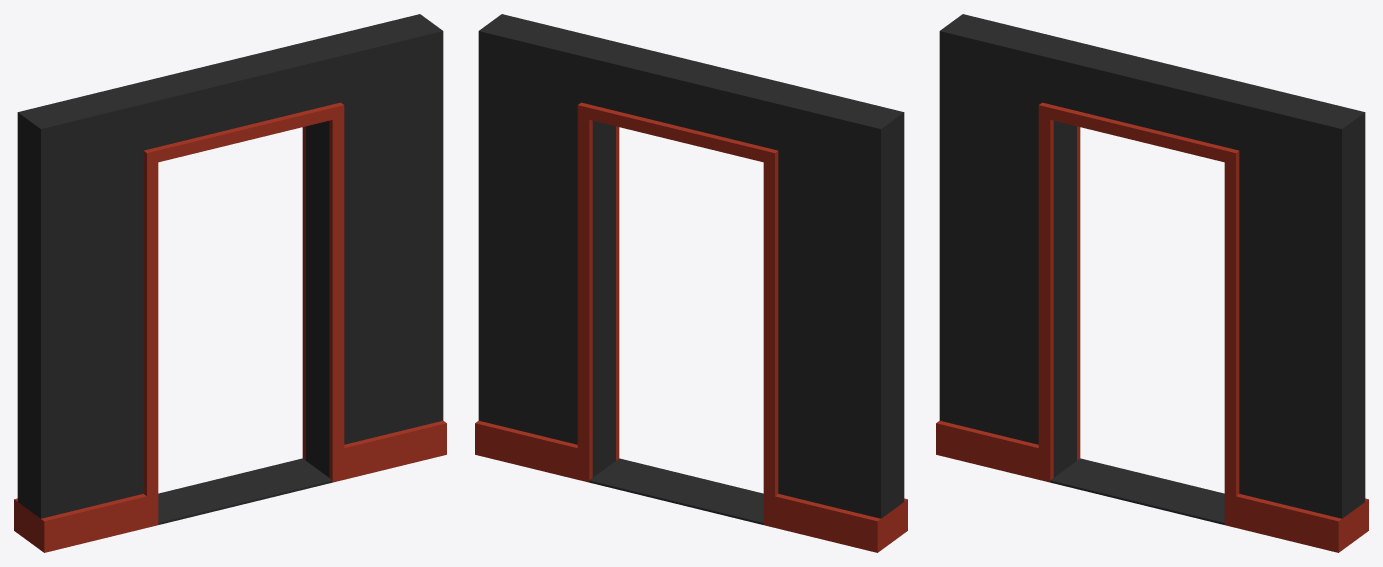
The model's file is DoorwayWall_Framed.fbx.
3 views of the same model, side by side, from view 1: azimuth 30°, elevation 25°; view 2: azimuth 150°, elevation 25°; view 3: azimuth 330°, elevation 25° (orthographic).
Visible parts, largest first — view 1: RimmedDoorway; view 2: RimmedDoorway; view 3: RimmedDoorway.
Boxes of the visible parts, x1,y1,x2,y2 form: RimmedDoorway: [14, 14, 446, 552]; RimmedDoorway: [475, 14, 907, 552]; RimmedDoorway: [936, 14, 1368, 552].
Size of the model in its own units: 200 by 200 by 26.
